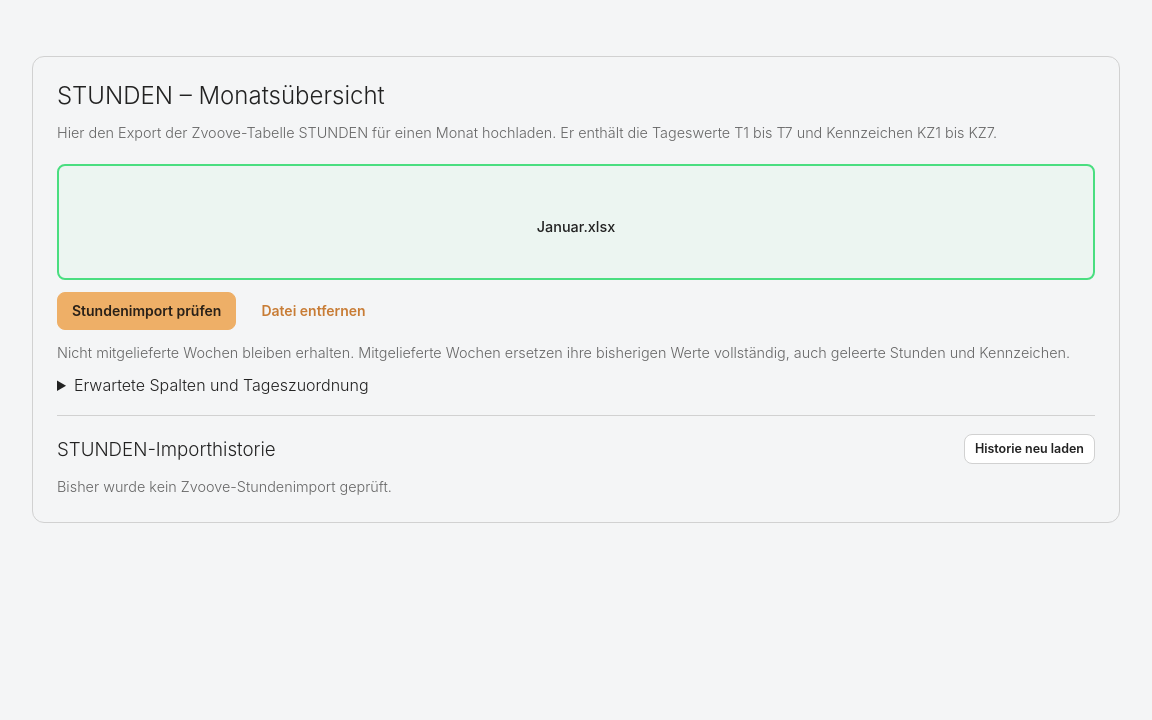
it: Zvoove hours import › clears private details and cancels requests when the admin role is revoked
Click the button "Stundenimport prüfen" at (147, 311), box [57,292,236,330]
(page scrolled)
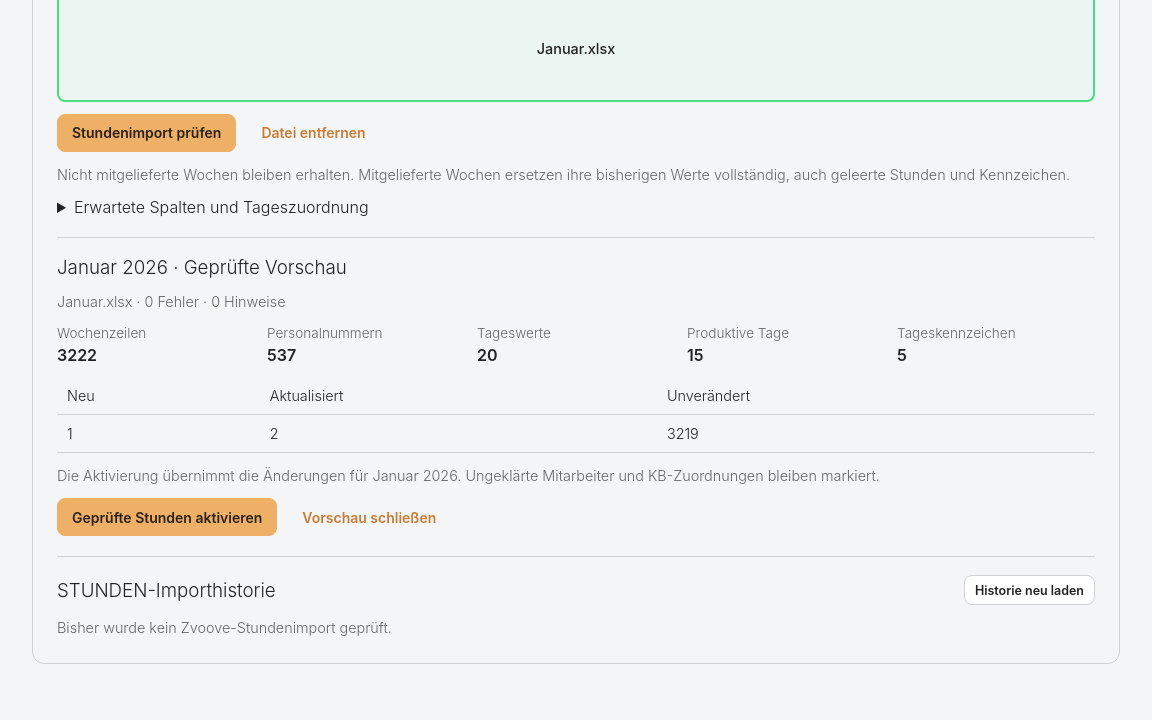
Click the button "Historie neu laden" at (1029, 590), box [964,575,1095,605]
(page scrolled)
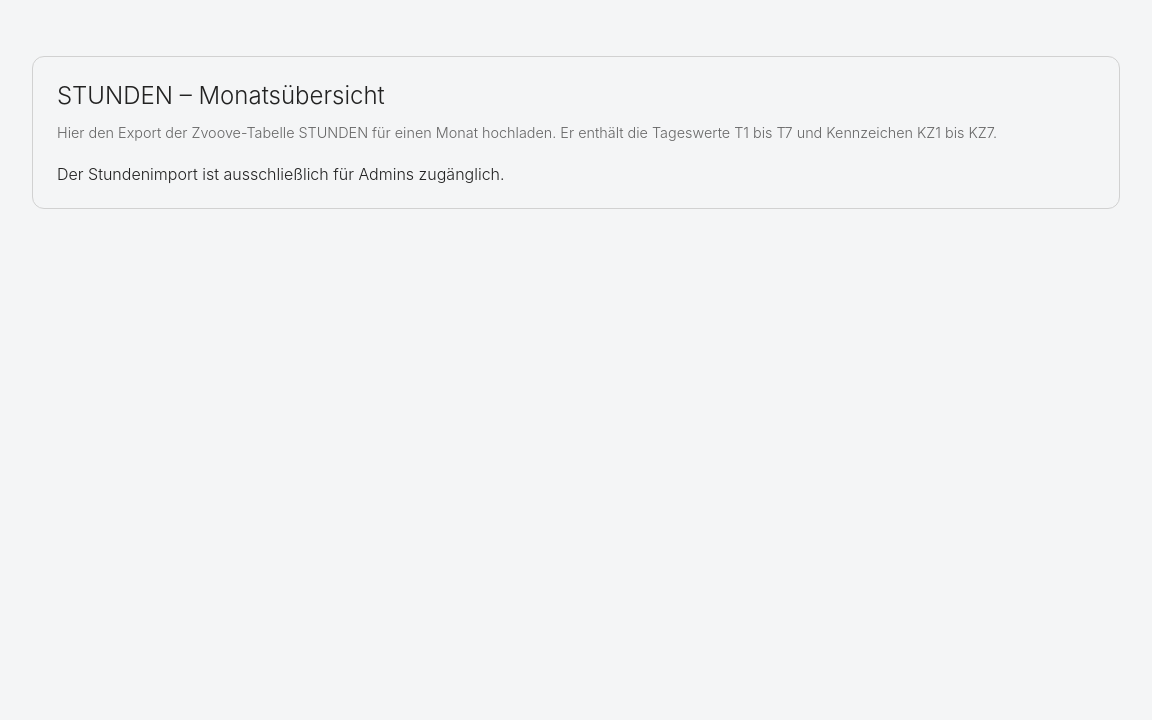
Now the text "Januar.xlsx" is gone
Now the text "ausschließlich für Admins" is shown, box [57,164,505,184]
